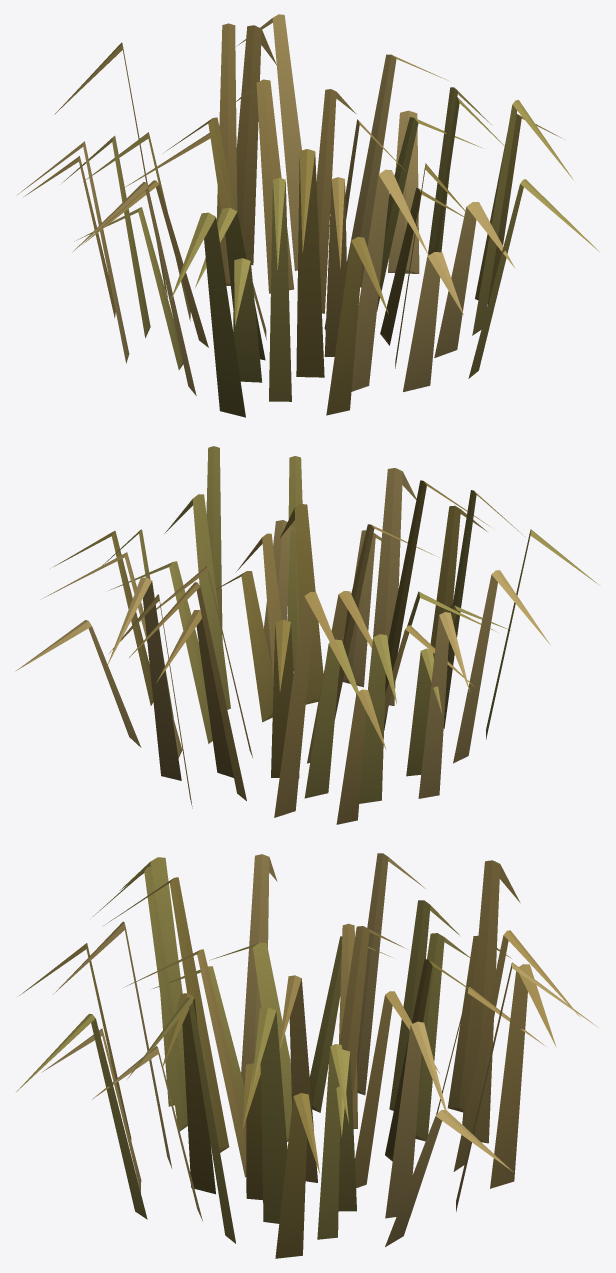
The model's file is grass-clumps.glb.
3 renders of one model, top to bottom at view 1: azimuth 30°, elevation 25°; view 2: azimuth 150°, elevation 25°; view 3: azimuth 270°, elevation 25°, orthographic. The views are drawn at different scales.
Visible parts, largest first — view 1: CompactGrassClump; view 2: CompactGrassClump; view 3: CompactGrassClump.
Part boxes in pixels (x1,y1,x2,y2): CompactGrassClump: (16, 14, 599, 417); CompactGrassClump: (15, 446, 599, 824); CompactGrassClump: (16, 853, 598, 1258).
Size of the model in its own units: 1.01 by 0.4709 by 0.9549.
